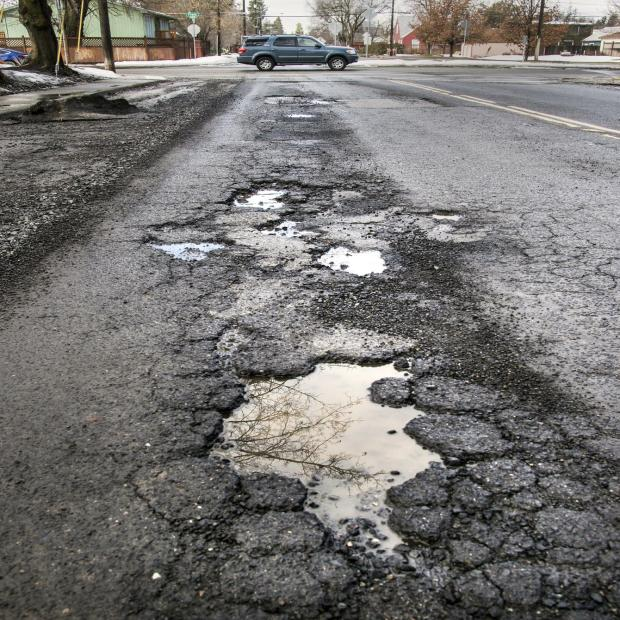lubang: (208, 353, 441, 576), (216, 179, 359, 248), (315, 241, 394, 278), (146, 240, 235, 264), (410, 207, 461, 221)
